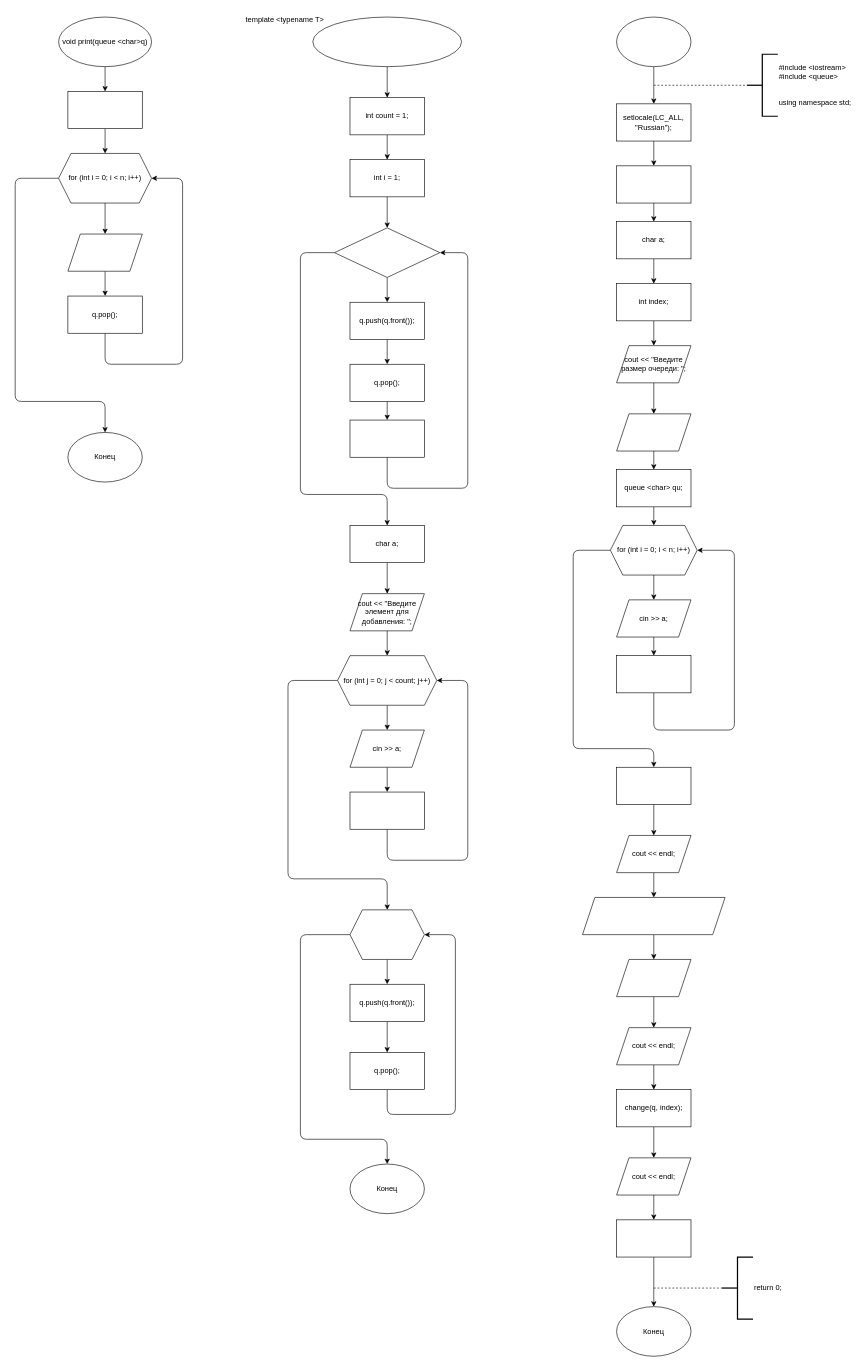
This 862x1367 diagram has some shape labels left out. The centre of each missing label's shape, as x and y in pixels:
cin >> index;: (x=653, y=978)
cin >> n;: (x=653, y=432)
cout << "Введите номер элемента, после которого мы добавим новый элемент: ";: (x=653, y=916)
cout << q.front();: (x=104, y=252)
for (i; i <= q.size - count; i++): (x=386, y=934)
i++;: (x=386, y=438)
int n = q.size();: (x=104, y=110)
int n;: (x=653, y=184)
print(q);: (x=653, y=1238)
print(qu);: (x=653, y=785)
q.push(a);: (x=386, y=810)
qu.push(a);: (x=653, y=674)
void change(Queue<T>& q, const int& index): (x=387, y=41)
while (i < index + 1): (x=387, y=252)
Начало: (x=653, y=41)
